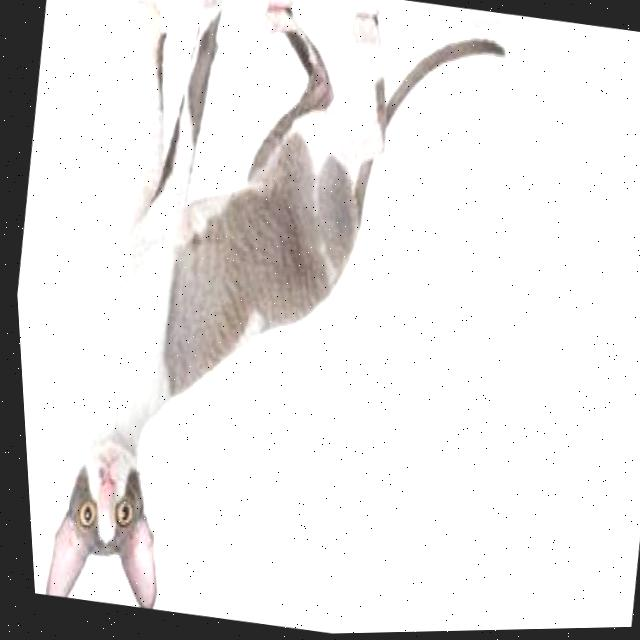Cornish Rex: (7, 0, 544, 640)
